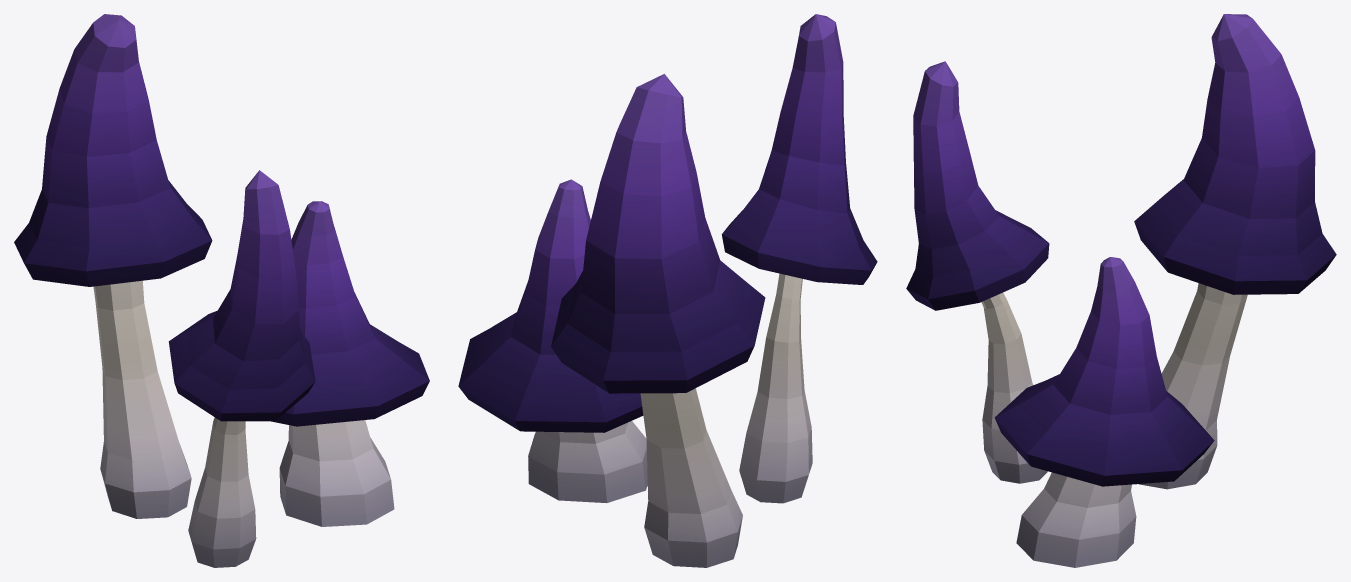
The model's file is Mushroom_Violet.fbx.
3 renders of one model, left to right at view 1: azimuth 30°, elevation 25°; view 2: azimuth 150°, elevation 25°; view 3: azimuth 270°, elevation 25°, orthographic. The views are drawn at different scales.
Visible parts, largest first — view 1: Mushroom 5; view 2: Mushroom 5; view 3: Mushroom 5.
Part boxes in pixels (x1,y1,x2,y2): Mushroom 5: (14,14,429,567); Mushroom 5: (458,14,877,567); Mushroom 5: (906,14,1336,567).
Bounding box in the file's own units: 96.36 × 129 × 110.
